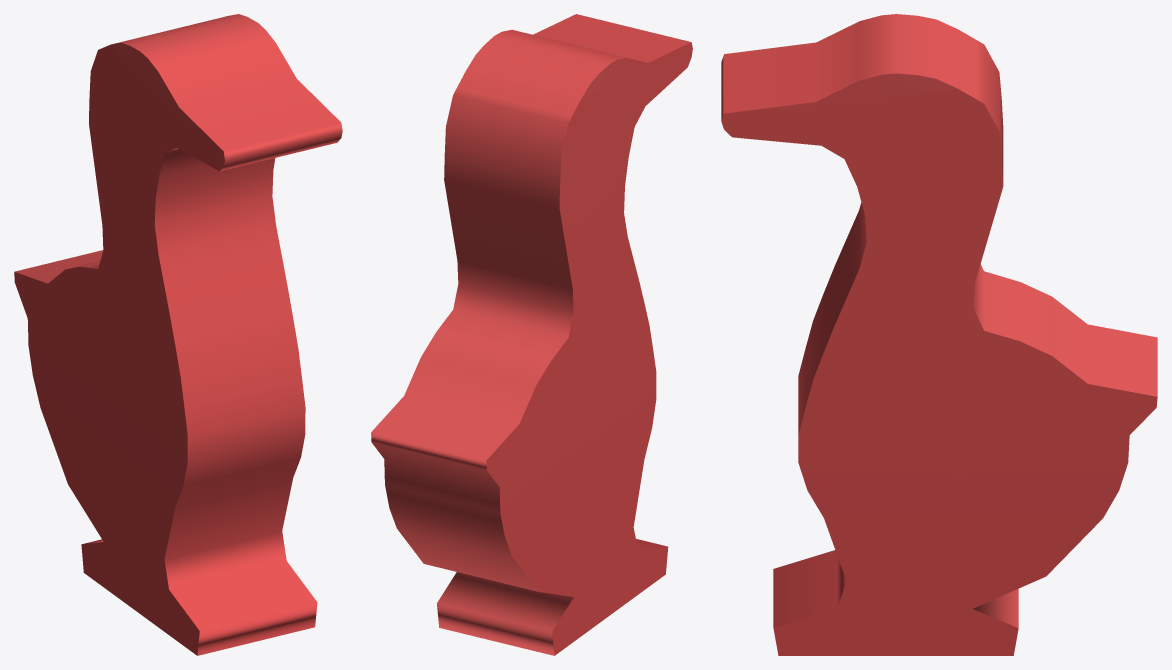
File: Gans Rood.fbx
The picture shows the model from 3 angles, left to right: view 1: azimuth 30°, elevation 25°; view 2: azimuth 150°, elevation 25°; view 3: azimuth 270°, elevation 25°; orthographic projection. The views are drawn at different scales.
Parts seen in each view (by area): view 1: pCube1; view 2: pCube1; view 3: pCube1.
Part boxes in pixels (<box>): pCube1: <box>14,14,342,655</box>; pCube1: <box>371,14,692,655</box>; pCube1: <box>721,14,1157,655</box>.
Size of the model in its own units: 0.3124 by 1.43 by 0.9687.
1 material, 1 textured.
